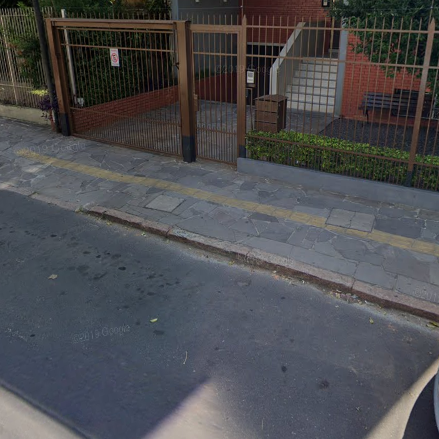vag7: (89, 184, 434, 347)
